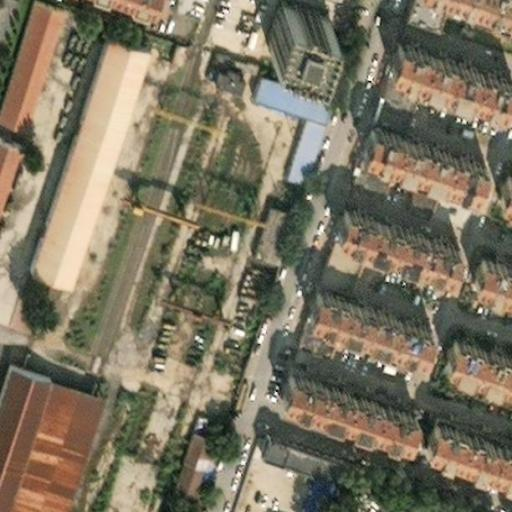building: (7, 19, 134, 277), (0, 361, 107, 511), (348, 111, 475, 185), (236, 65, 320, 176), (267, 359, 402, 428), (374, 30, 502, 102), (321, 191, 448, 261), (294, 275, 420, 343), (414, 409, 512, 469), (432, 318, 512, 378), (247, 425, 329, 469), (310, 225, 356, 286), (458, 240, 512, 289), (359, 65, 406, 121), (164, 437, 204, 494), (245, 198, 280, 253), (287, 463, 324, 512), (338, 148, 379, 189), (291, 308, 330, 344), (486, 153, 512, 194), (168, 38, 192, 67), (397, 0, 430, 16)
